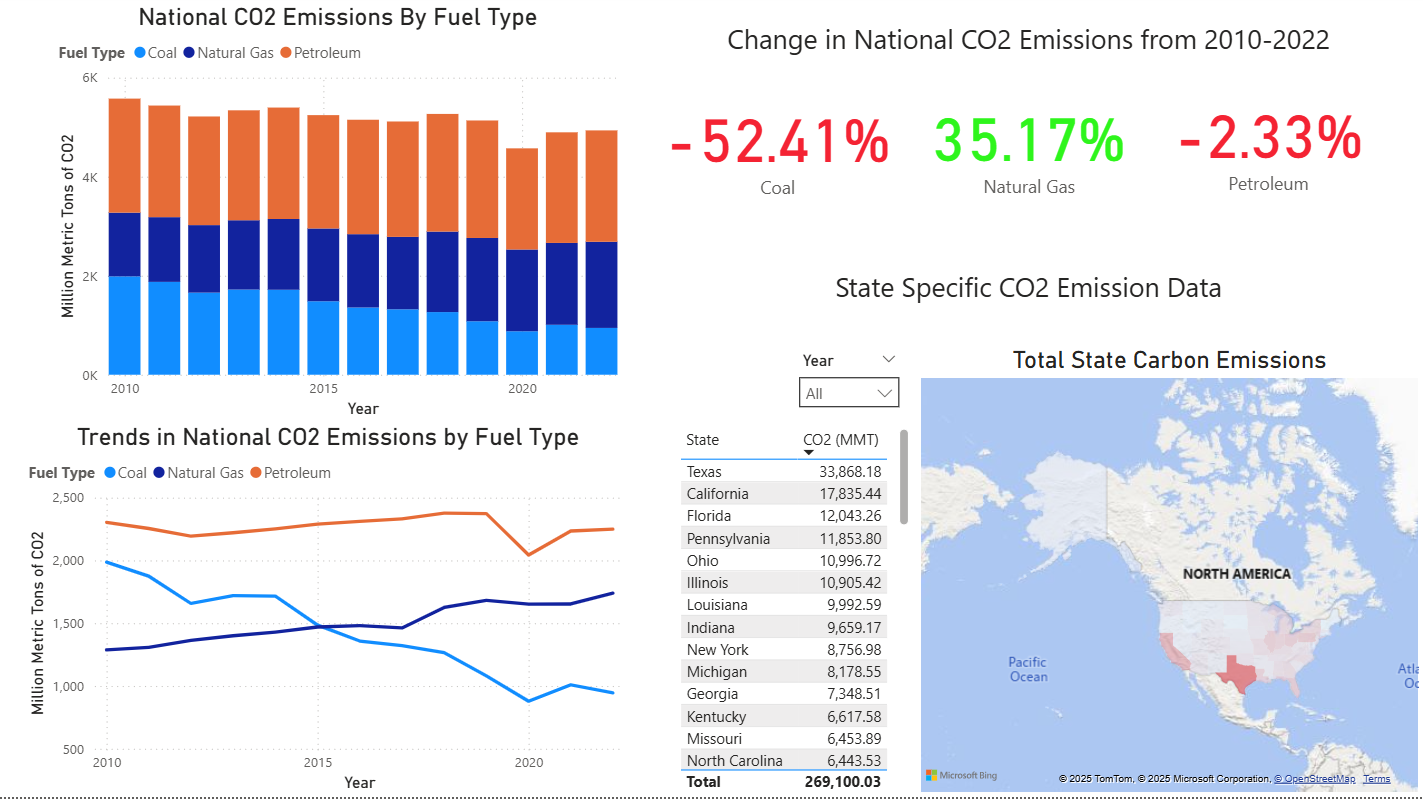

This screenshot's page, from the dashboard's own definition file:
{"tool":"powerbi","page":{"name":"Carbon Emissions","canvas":[1280,720],"ordinal":0},"visuals":[{"type":"slicer","fields":{"Values":["MART_STATE_EMISSIONS.YEAR"]},"box":[709.2,315.1,109.5,68.2],"z":0},{"type":"card","fields":{"Values":["MART_NATION_EMISSIONS.10_yr_change_in_coal"]},"box":[589,71.2,222.1,126.4],"z":1000},{"type":"textbox","box":[645.4,17.2,559.5,47.9],"z":2000},{"type":"columnChart","title":"National CO2 Emissions By Fuel Type","fields":{"Category":["MART_NATION_EMISSIONS.YEAR"],"Y":["MART_NATION_EMISSIONS.total_emissions"],"Series":["MART_NATION_EMISSIONS.Full_Fuel_Name"]},"box":[49.4,7.2,511.7,377.1],"z":3000},{"type":"lineChart","title":"Trends in National CO2 Emissions by Fuel Type","fields":{"Y":["MART_NATION_EMISSIONS.total_coal_emissions","MART_NATION_EMISSIONS.total_nat_gas_emissions","MART_NATION_EMISSIONS.total_petro_emissions"],"Category":["MART_NATION_EMISSIONS.YEAR"]},"box":[22.4,384.2,547.6,335.8],"z":4000},{"type":"filledMap","title":"Total State Carbon Emissions","fields":{"Category":["MART_STATE_EMISSIONS.STATE_NAME"]},"box":[823.2,315.1,457,404.9],"z":5000},{"type":"tableEx","fields":{"Values":["MART_STATE_EMISSIONS.STATE_NAME","MART_STATE_EMISSIONS.emissions_sum"]},"box":[606.9,384.2,216.4,335.8],"z":6000},{"type":"card","fields":{"Values":["MART_NATION_EMISSIONS.10_yr_pct_change_in_gas"]},"box":[823.3,74.8,204.9,117.8],"z":8000},{"type":"card","fields":{"Values":["MART_NATION_EMISSIONS.10_yr_pct_change_in_petro"]},"box":[1046.6,74.8,187.7,112.9],"z":9000},{"type":"textbox","box":[709.2,239.3,431.9,58.9],"z":10000}]}

Visuals, with their boxes in screenshot pixels (x1, y1, x2, y2), scaled from the page's 1280x720 canvas onto the 1423x799 screenshot:
slicer - MART_STATE_EMISSIONS.YEAR: bbox=(788, 350, 910, 425)
card - MART_NATION_EMISSIONS.10_yr_change_in_coal: bbox=(655, 79, 902, 219)
textbox: bbox=(718, 19, 1340, 72)
"National CO2 Emissions By Fuel Type" columnChart: bbox=(55, 8, 624, 426)
"Trends in National CO2 Emissions by Fuel Type" lineChart: bbox=(25, 426, 634, 798)
"Total State Carbon Emissions" filledMap: bbox=(915, 350, 1422, 798)
tableEx - MART_STATE_EMISSIONS.STATE_NAME x MART_STATE_EMISSIONS.emissions_sum: bbox=(675, 426, 915, 798)
card - MART_NATION_EMISSIONS.10_yr_pct_change_in_gas: bbox=(915, 83, 1143, 214)
card - MART_NATION_EMISSIONS.10_yr_pct_change_in_petro: bbox=(1164, 83, 1372, 208)
textbox: bbox=(788, 266, 1269, 331)
